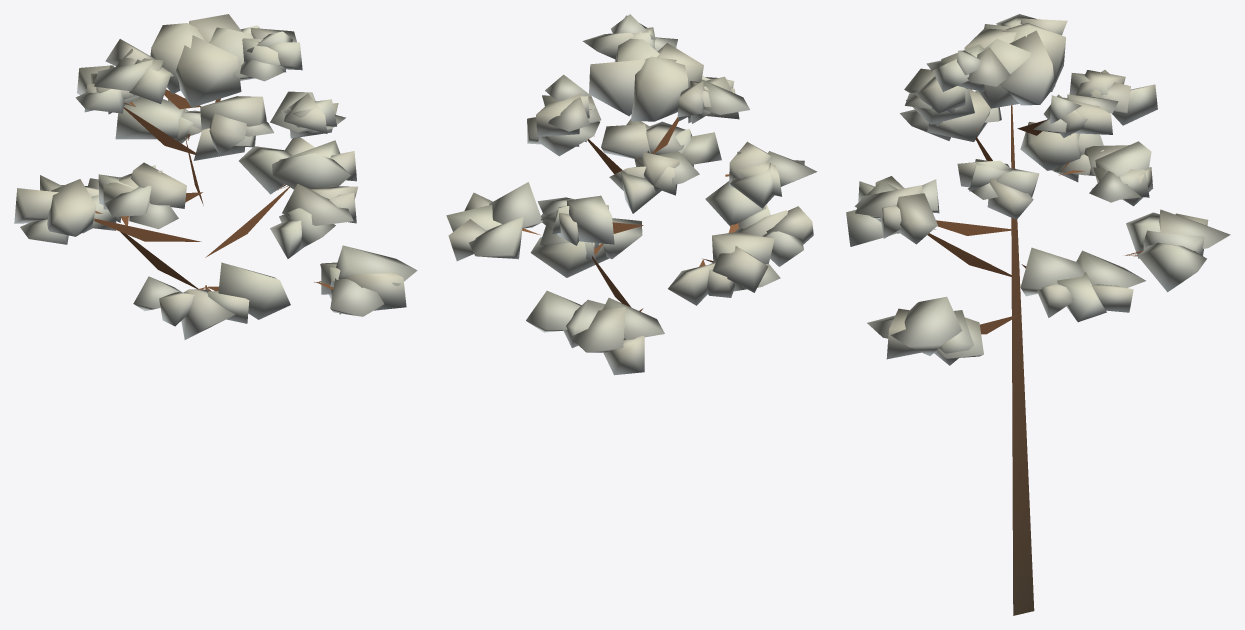
The picture shows the model from 3 angles, left to right: view 1: azimuth 30°, elevation 25°; view 2: azimuth 150°, elevation 25°; view 3: azimuth 270°, elevation 25°; orthographic projection. The views are drawn at different scales.
Parts seen in each view (by area): view 1: crown, trunk; view 2: crown, trunk; view 3: crown, trunk.
Boxes of the visible parts, x1=… form: crown: x1=14, y1=14, x2=417, y2=339; trunk: x1=93, y1=89, x2=333, y2=291; crown: x1=446, y1=14, x2=817, y2=375; trunk: x1=522, y1=109, x2=738, y2=311; crown: x1=846, y1=14, x2=1230, y2=365; trunk: x1=927, y1=105, x2=1142, y2=615.
Bounding box in the file's own units: 9.65 × 16.57 × 9.87.
